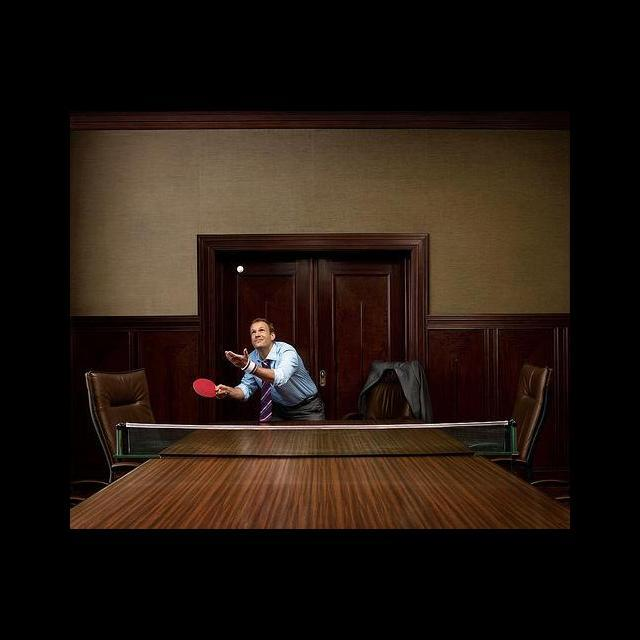ping-pong-ball: (237, 266, 244, 274)
